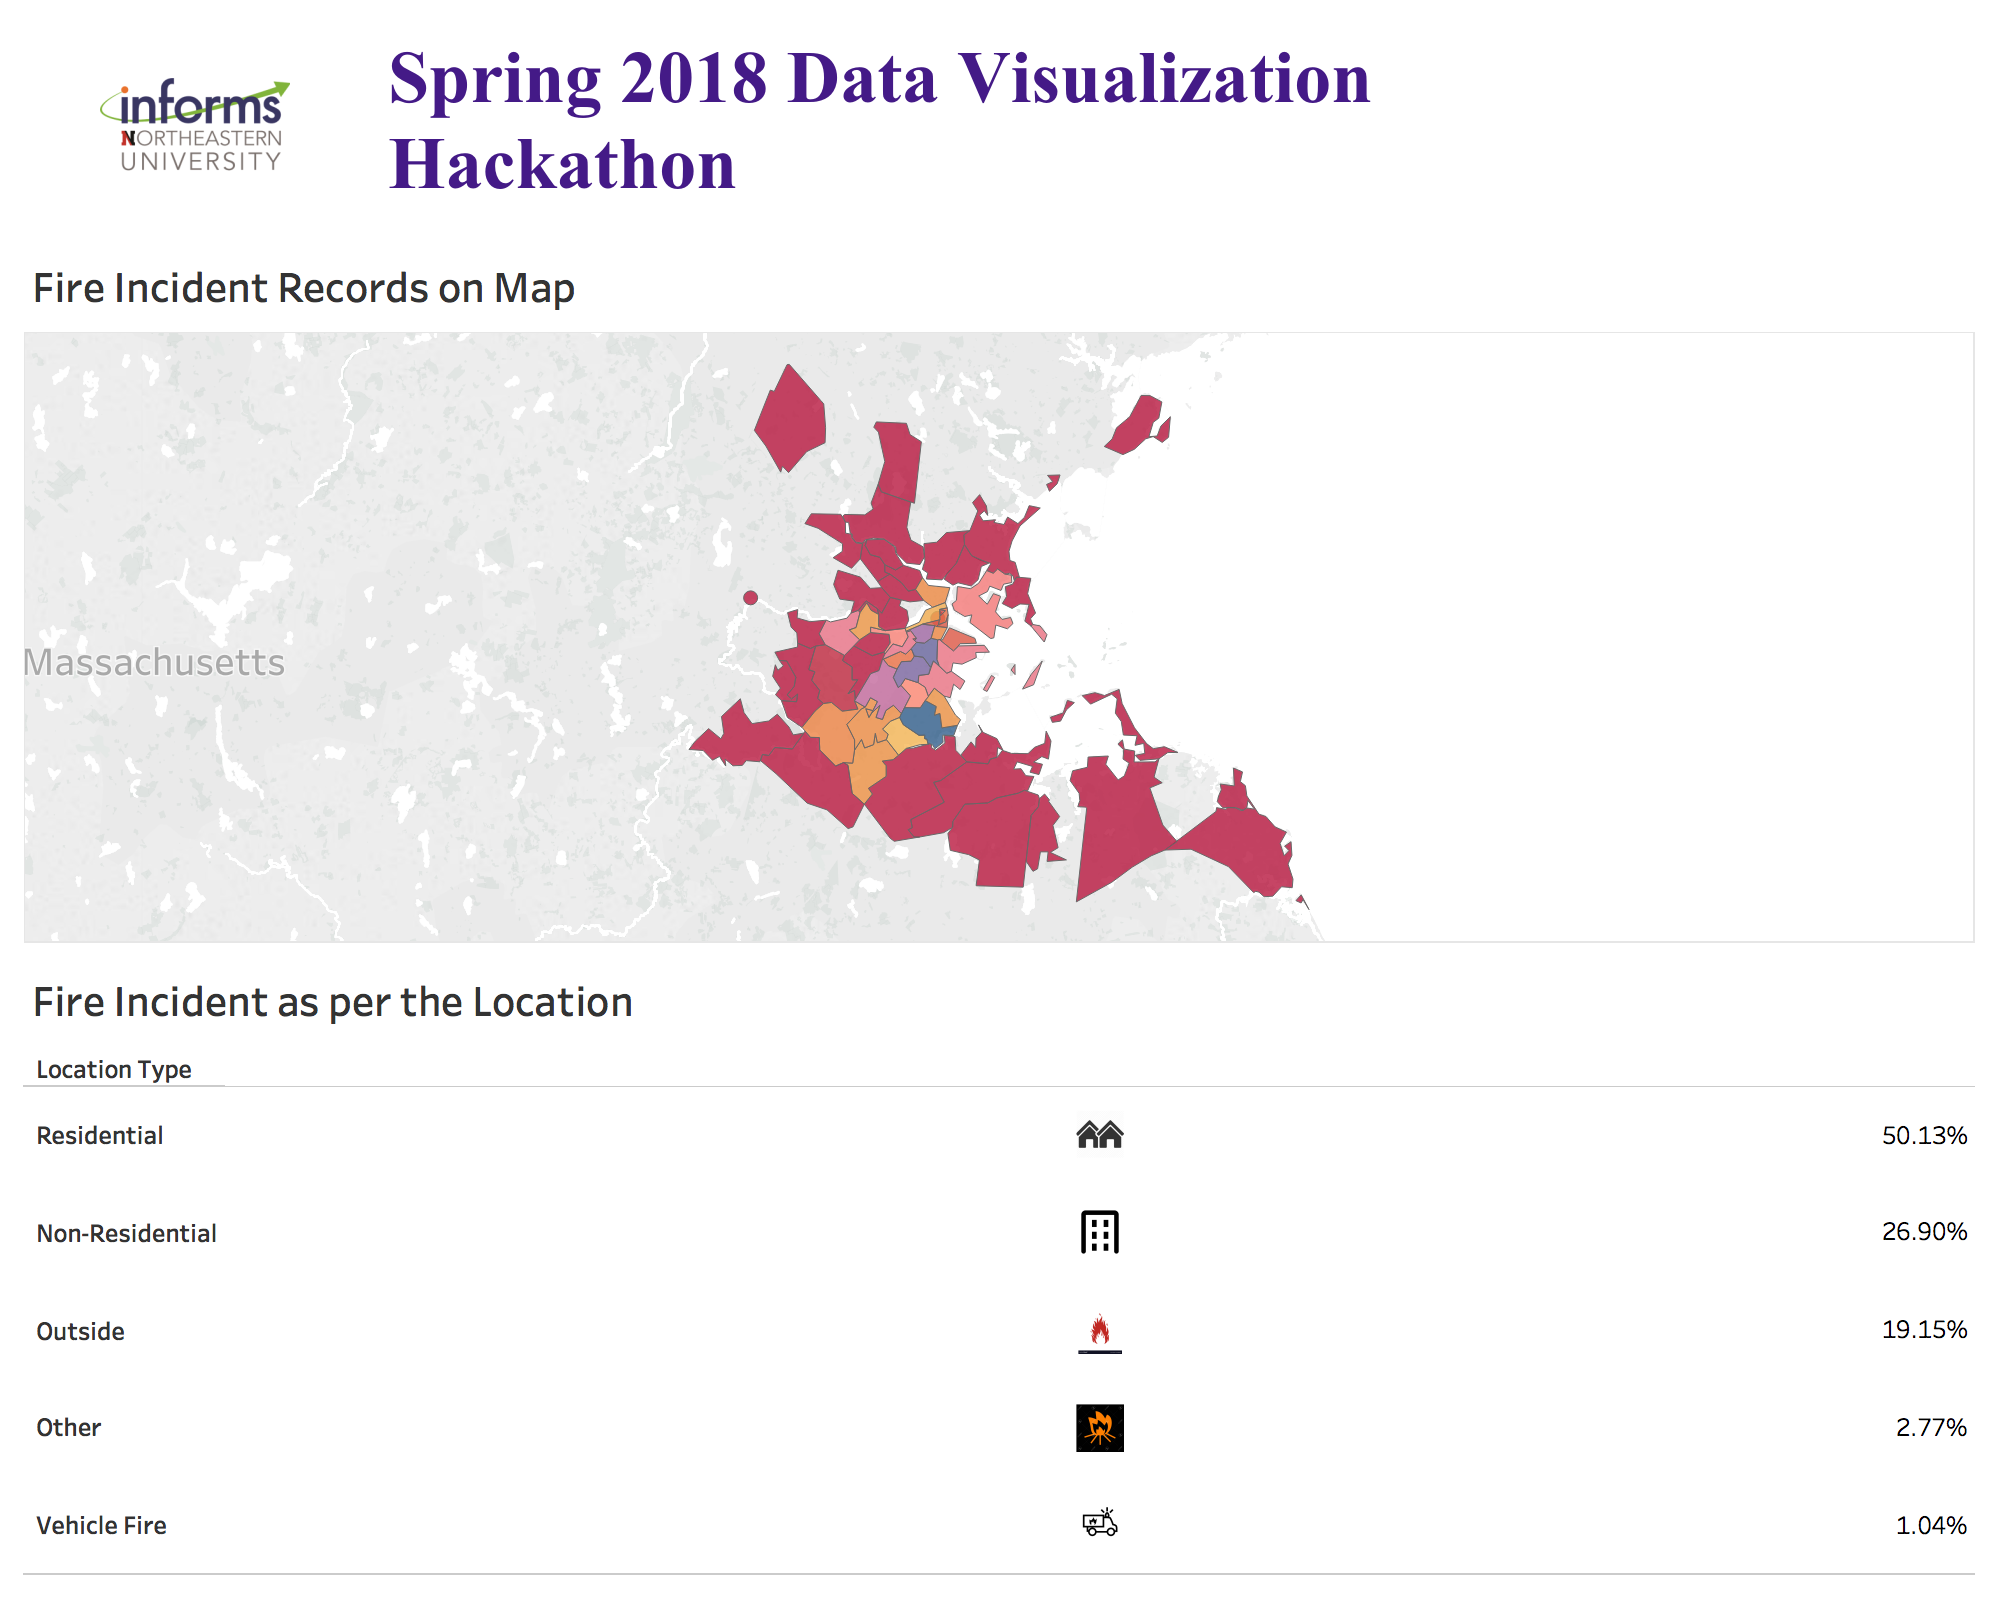

What the dashboard file says about the page in this screenshot:
{"tool":"tableau","page":{"name":"FireDashboard","canvas":[1000,800],"ordinal":0},"visuals":[{"type":"worksheet","title":"Logo","mark":"Shape","box":[8,8,177.9,111]},{"type":"worksheet","title":"Title","mark":"Automatic","box":[185.9,8,806.1,111]},{"type":"worksheet","title":"Map","mark":"Multipolygon","box":[8,119,984,357]},{"type":"worksheet","title":"FireLocation","mark":"Shape","rows":["Location Type"],"box":[8,476,984,316]}]}

Visuals, with their boxes in screenshot pixels (x1, y1, x2, y2), scaled from the page's 1000x800 canvas onto the 2000x1600 screenshot:
"Logo" worksheet (Shape marks): x1=16 y1=16 x2=372 y2=238
"Title" worksheet: x1=372 y1=16 x2=1984 y2=238
"Map" worksheet (Multipolygon marks): x1=16 y1=238 x2=1984 y2=952
"FireLocation" worksheet (Shape marks): x1=16 y1=952 x2=1984 y2=1584
